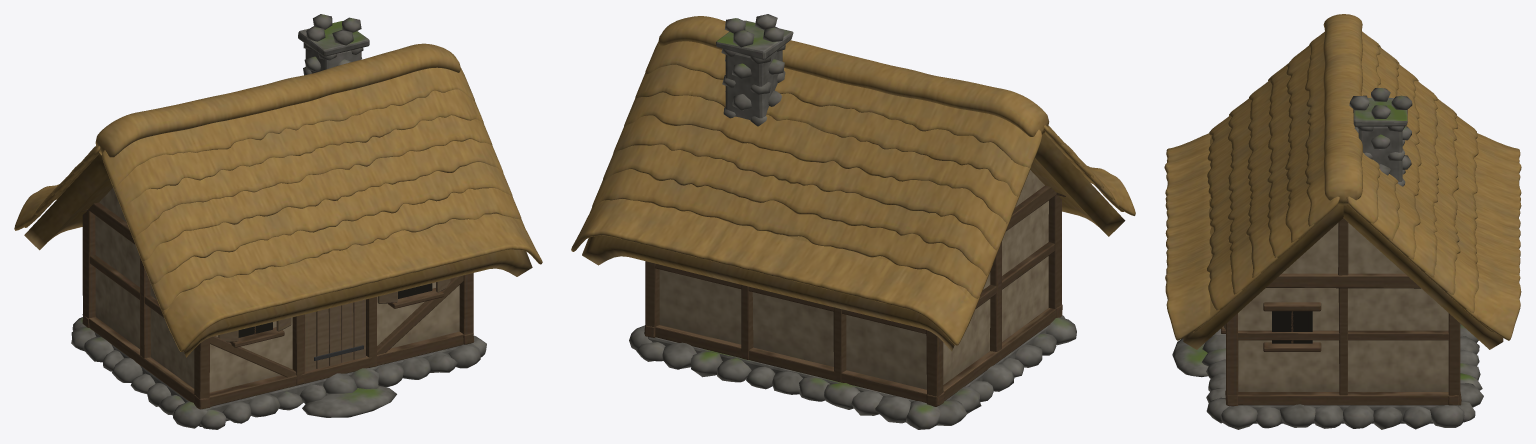
File: hut.glb
3 renders of one model, left to right at view 1: azimuth 30°, elevation 25°; view 2: azimuth 150°, elevation 25°; view 3: azimuth 270°, elevation 25°, orthographic. The views are drawn at different scales.
Parts seen in each view (by area): view 1: hut; view 2: hut; view 3: hut.
Boxes of the visible parts, x1,y1,x2,y2 form: hut: (14,14,542,429); hut: (571,14,1135,429); hut: (1164,14,1521,429).
Size of the model in its own units: 6.13 by 4.9 by 5.25.
Materials: 1 (1 with a texture image).
